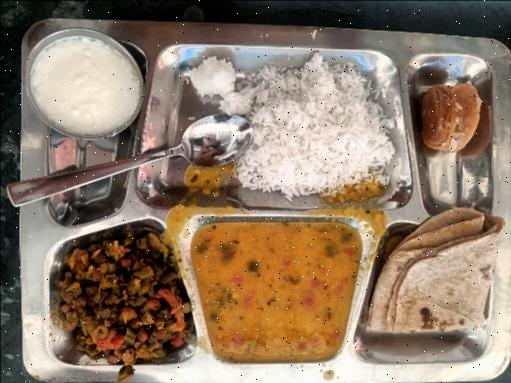Curd: (26, 29, 148, 139)
Dal: (202, 226, 352, 354)
Rice: (164, 51, 403, 208)
Roti: (380, 214, 507, 348)
Sweet: (416, 60, 490, 159)
Vegetable: (44, 229, 191, 362)
